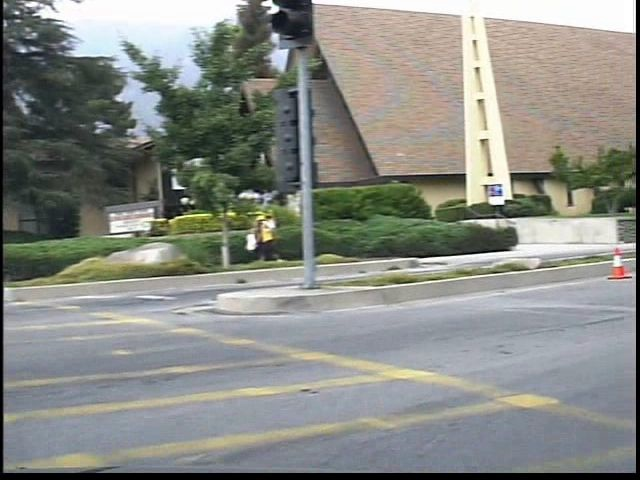person: (263, 209, 298, 267)
